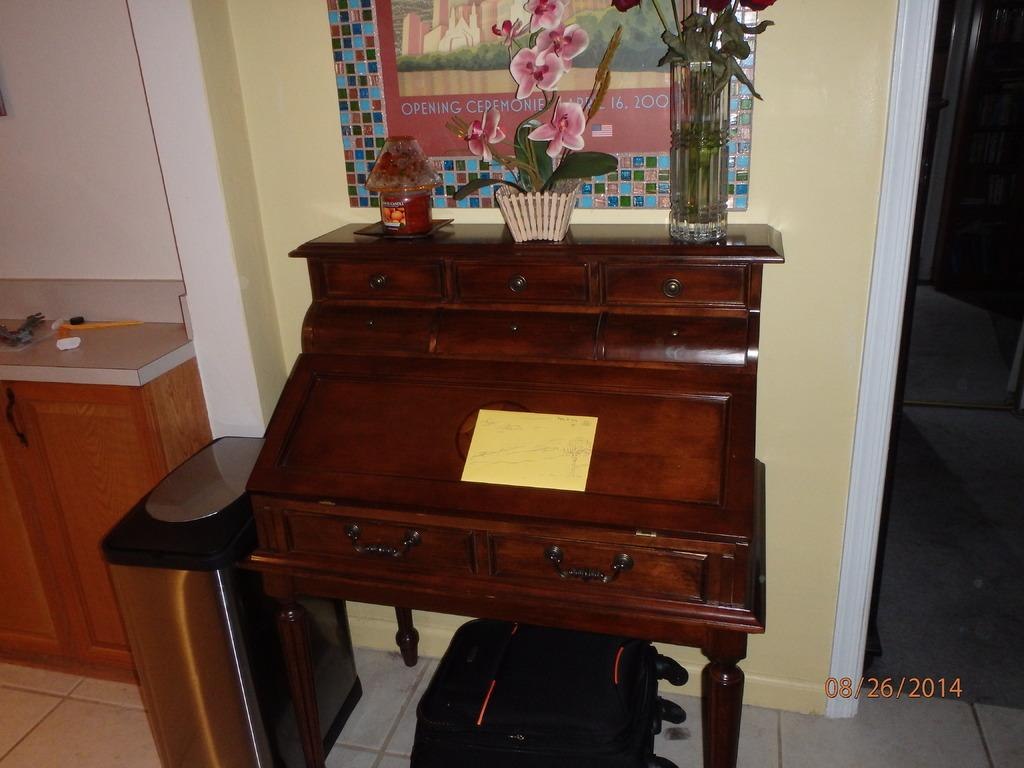cabinet_door: (20, 392, 137, 660), (500, 538, 702, 596), (286, 513, 480, 566), (608, 260, 750, 300), (472, 260, 577, 298), (328, 258, 430, 290)
handle: (551, 556, 625, 591), (352, 538, 414, 564), (1, 394, 28, 450), (666, 276, 686, 300), (506, 268, 530, 287), (364, 271, 386, 287)
